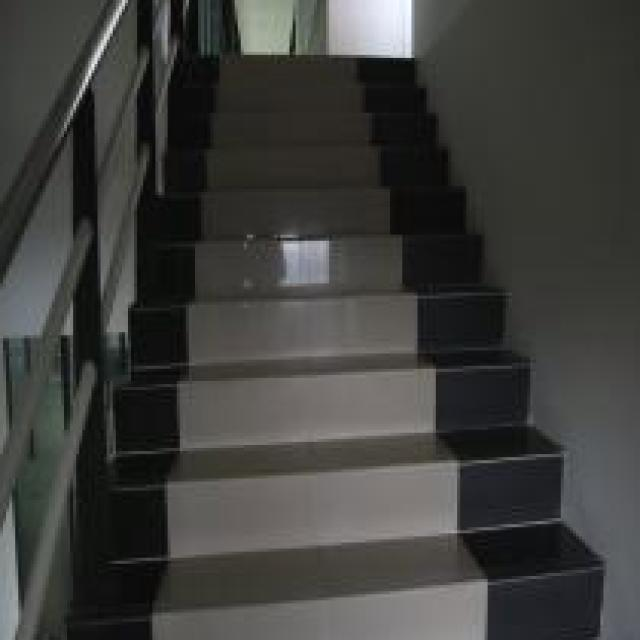upstair: (208, 59, 449, 640)
